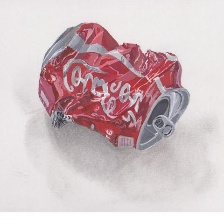can: (29, 18, 194, 160)
